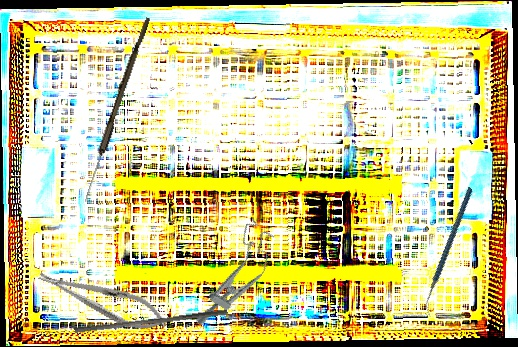Chopper: (388, 186, 511, 318)
Needle Holder: (33, 259, 172, 340)
Pusher: (74, 303, 228, 339)
Speculum: (188, 217, 285, 339)
Surgical Spoon: (81, 15, 151, 204)
